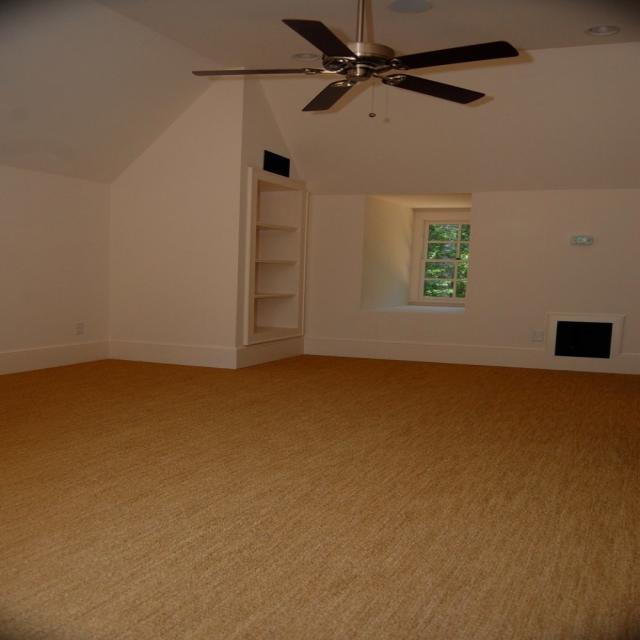Bulb: (191, 0, 518, 111)
